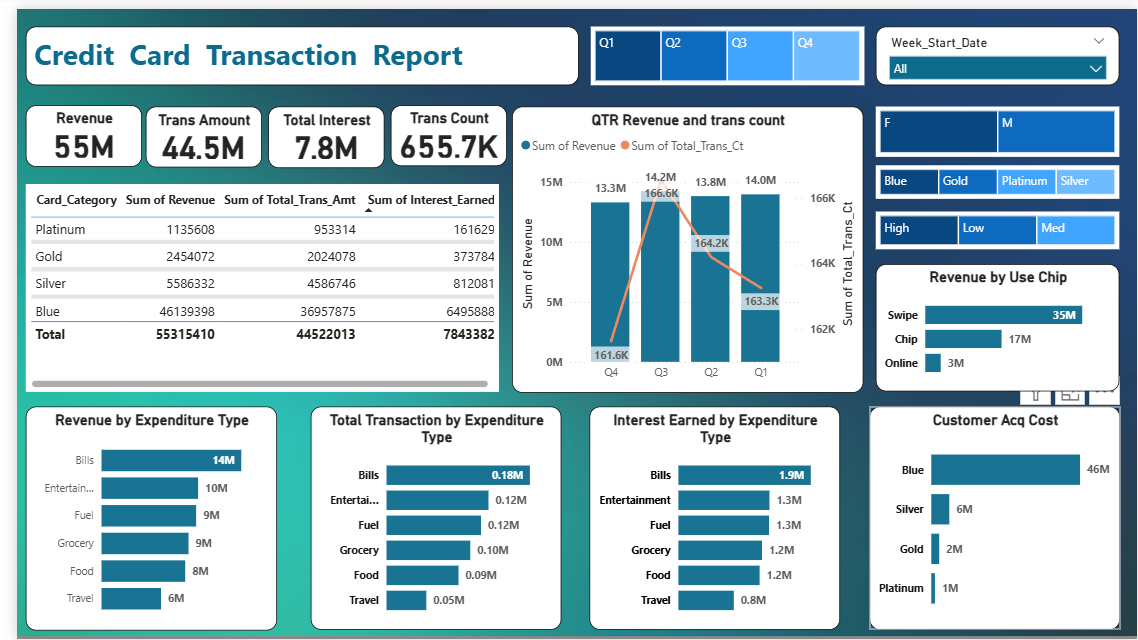

What the dashboard file says about the page in this screenshot:
{"tool":"powerbi","page":{"name":"cc Transaction","canvas":[1280,720],"ordinal":0},"visuals":[{"type":"textbox","box":[9.7,19.3,632.2,67.6],"z":0},{"type":"lineStackedColumnComboChart","title":"QTR Revenue and trans count","fields":{"Category":["ccdb cc_detail.Qtr"],"Y":["Sum(ccdb cc_detail.Revenue)"],"Y2":["Sum(ccdb cc_detail.Total_Trans_Ct)"]},"box":[565.8,111,401.7,326.9],"z":1000},{"type":"barChart","title":" Revenue by Expenditure Type","fields":{"Y":["Sum(ccdb cc_detail.Revenue)"],"Category":["ccdb cc_detail.Exp_Type"]},"box":[9.7,453.6,287.1,255.8],"z":2000},{"type":"barChart","title":"Interest Earned by Expenditure Type","fields":{"Category":["ccdb cc_detail.Exp_Type"],"Y":["Sum(ccdb cc_detail.Interest_Earned)"]},"box":[654.5,454.2,286.8,255.2],"z":3000},{"type":"barChart","title":"Customer Acq Cost","fields":{"Y":["Sum(ccdb cc_detail.Revenue)"],"Category":["ccdb cc_detail.Card_Category"]},"box":[974.3,454.2,286.8,255.2],"z":4000},{"type":"barChart","title":" Revenue by Use Chip","fields":{"Y":["Sum(ccdb cc_detail.Revenue)"],"Category":["ccdb cc_detail.Use_Chip"]},"box":[982,292,278.7,146],"z":5000},{"type":"tableEx","fields":{"Values":["ccdb cc_detail.Card_Category","Sum(ccdb cc_detail.Revenue)","Sum(ccdb cc_detail.Total_Trans_Amt)","Sum(ccdb cc_detail.Interest_Earned)"]},"box":[9.7,200.3,540.5,237.7],"z":6000},{"type":"card","title":"Revenue","fields":{"Values":["Sum(ccdb cc_detail.Revenue)"]},"box":[9.4,109.4,133,70.3],"z":7000},{"type":"card","title":"Trans Amount","fields":{"Values":["Sum(ccdb cc_detail.Total_Trans_Amt)"]},"box":[147.2,111,132.7,70],"z":8000},{"type":"card","title":"Total Interest","fields":{"Values":["Sum(ccdb cc_detail.Interest_Earned)"]},"box":[287.5,110.9,133,70.3],"z":9000},{"type":"card","title":"Trans Count","fields":{"Values":["Sum(ccdb cc_detail.Total_Trans_Ct)"]},"box":[427.1,109.8,133,70],"z":10000},{"type":"slicer","fields":{"Values":["ccdb cc_detail.Week_Start_Date"]},"box":[982,19.3,278.7,67.6],"z":11000},{"type":"treemap","fields":{"Group":["ccdb cc_detail.Qtr"],"Values":["Avg(ccdb cust_detail.Client_Num)"]},"box":[655.1,19.3,312.5,67.6],"z":12000},{"type":"treemap","fields":{"Group":["ccdb cust_detail.Gender"],"Values":["Avg(ccdb cust_detail.Client_Num)"]},"box":[982,111,278.7,57.9],"z":13000},{"type":"treemap","fields":{"Group":["ccdb cc_detail.Card_Category"],"Values":["Avg(ccdb cust_detail.Client_Num)"]},"box":[982,178.6,278.7,38.6],"z":14000},{"type":"treemap","fields":{"Group":["ccdb cust_detail.IncomeGroup"],"Values":["Avg(ccdb cust_detail.Client_Num)"]},"box":[982,231.6,278.7,43.4],"z":15000},{"type":"barChart","title":"Total Transaction by Expenditure Type","fields":{"Category":["ccdb cc_detail.Exp_Type"],"Y":["Sum(ccdb cc_detail.Total_Trans_Ct)"]},"box":[336.2,454.2,286.8,255.2],"z":16000}]}

Visuals, with their boxes in screenshot pixels (x1, y1, x2, y2), scaled from the page's 1280x720 canvas onto the 1138x640 screenshot:
textbox: (9, 17, 571, 77)
"QTR Revenue and trans count" lineStackedColumnComboChart: (503, 99, 860, 389)
" Revenue by Expenditure Type" barChart: (9, 403, 264, 631)
"Interest Earned by Expenditure Type" barChart: (582, 404, 837, 631)
"Customer Acq Cost" barChart: (866, 404, 1121, 631)
" Revenue by Use Chip" barChart: (873, 260, 1121, 389)
tableEx - ccdb cc_detail.Card_Category x Sum(ccdb cc_detail.Revenue): (9, 178, 489, 389)
"Revenue" card: (8, 97, 127, 160)
"Trans Amount" card: (131, 99, 249, 161)
"Total Interest" card: (256, 99, 374, 161)
"Trans Count" card: (380, 98, 498, 160)
slicer - ccdb cc_detail.Week_Start_Date: (873, 17, 1121, 77)
treemap - ccdb cc_detail.Qtr x Avg(ccdb cust_detail.Client_Num): (582, 17, 860, 77)
treemap - ccdb cust_detail.Gender x Avg(ccdb cust_detail.Client_Num): (873, 99, 1121, 150)
treemap - ccdb cc_detail.Card_Category x Avg(ccdb cust_detail.Client_Num): (873, 159, 1121, 193)
treemap - ccdb cust_detail.IncomeGroup x Avg(ccdb cust_detail.Client_Num): (873, 206, 1121, 244)
"Total Transaction by Expenditure Type" barChart: (299, 404, 554, 631)
